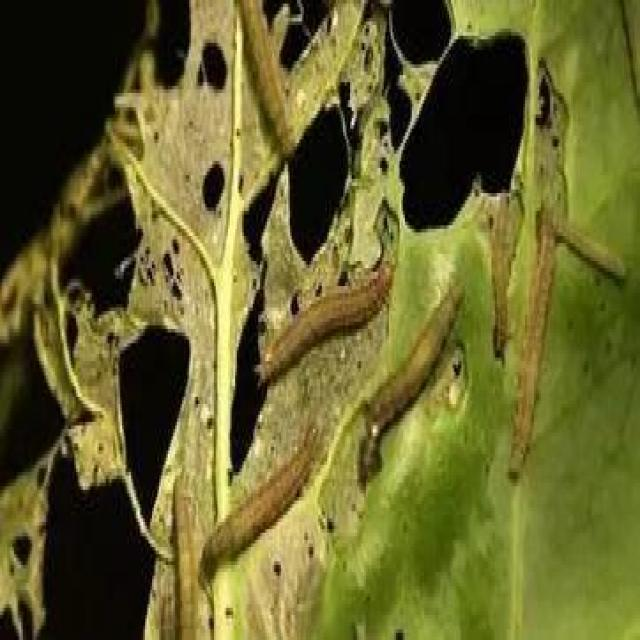BeetArmyWorm-Larva-: (254, 211, 402, 391), (200, 420, 330, 585), (360, 279, 470, 447), (239, 2, 301, 171), (545, 202, 632, 286)
